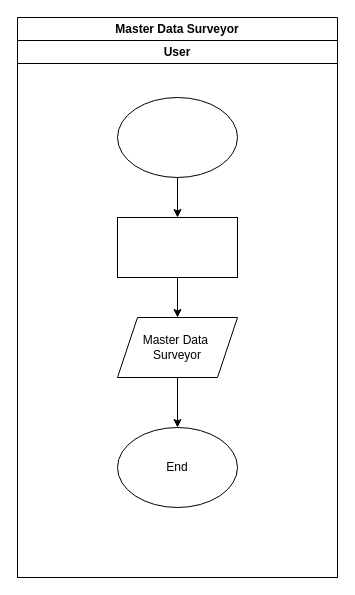
This 355x595 diagram has some shape labels left out. Here are the shapes that lost their labels. From the top down, the box of each, then its label:
(116, 96, 238, 178): Start
(116, 216, 238, 278): Create Master Data Surveyor
